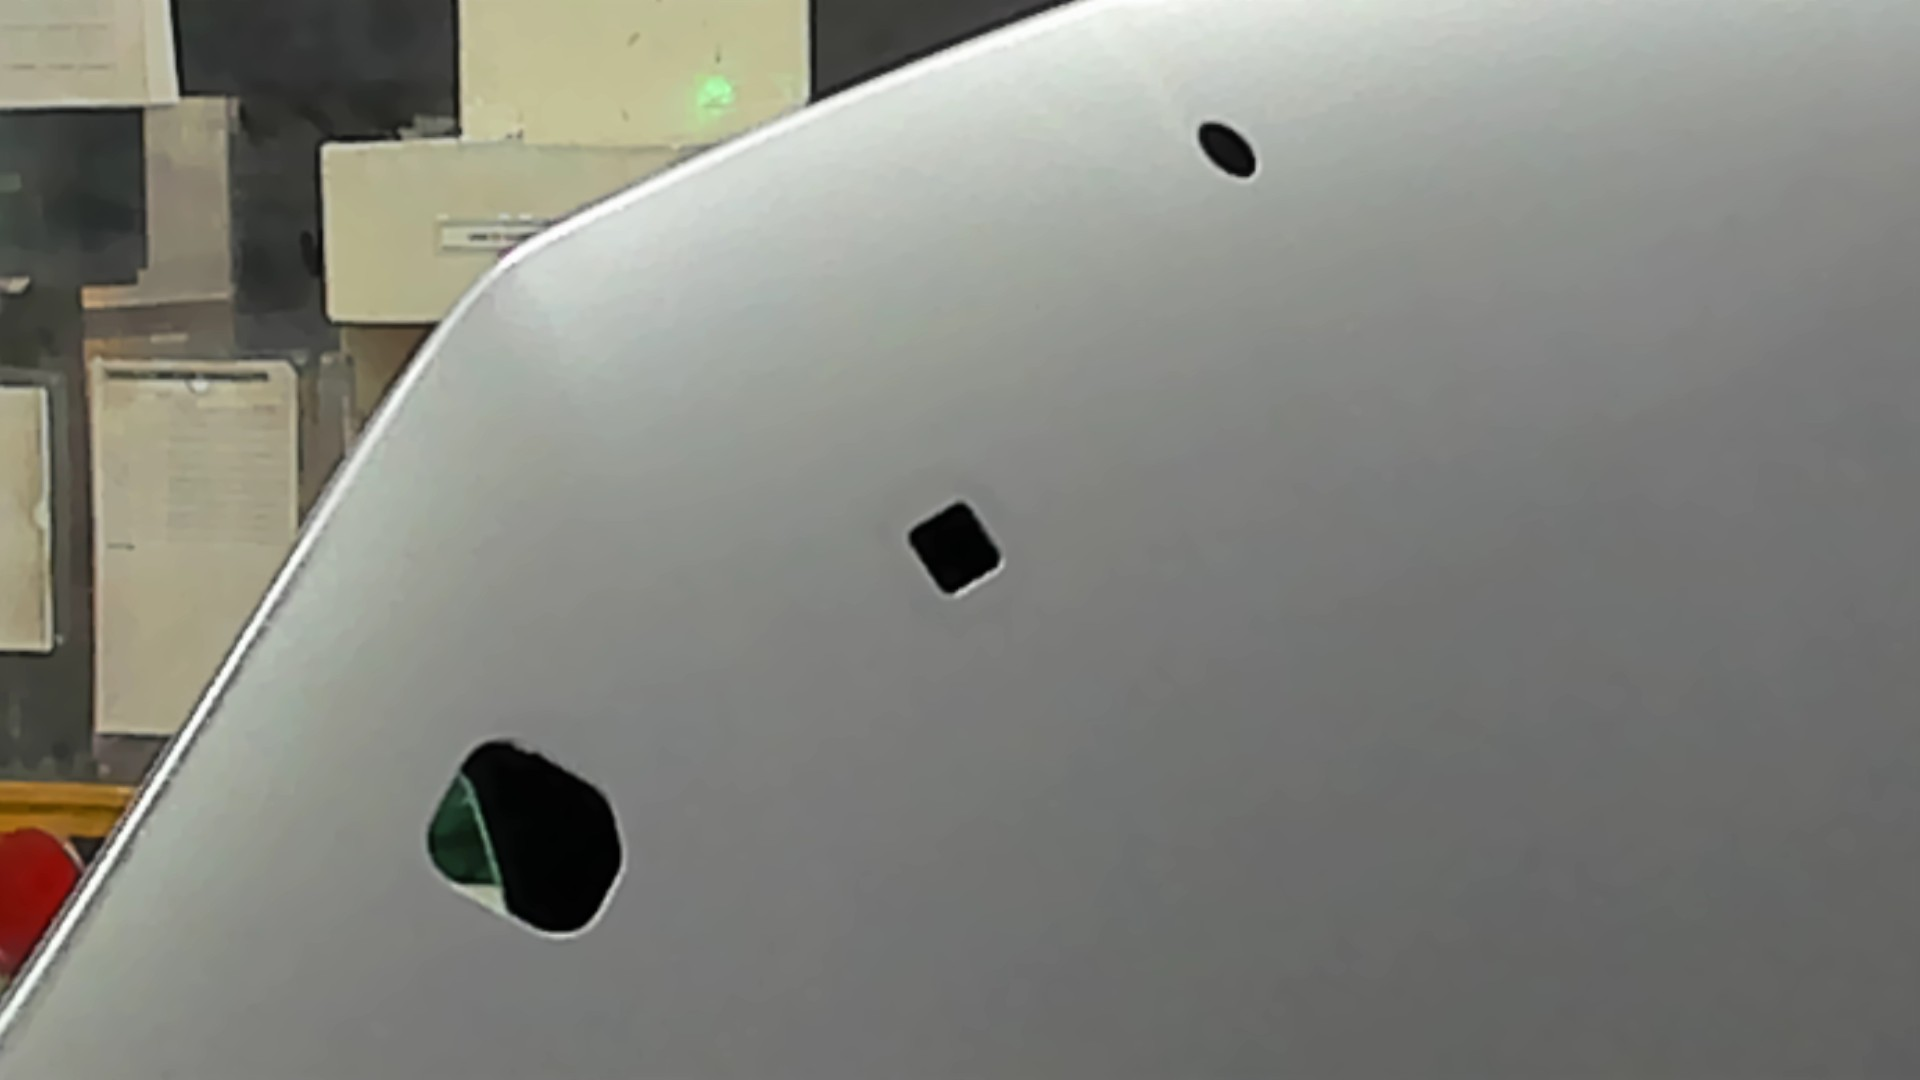chico: (1189, 109, 1276, 191)
grande: (397, 728, 640, 949)
mediano: (889, 488, 1021, 603)
